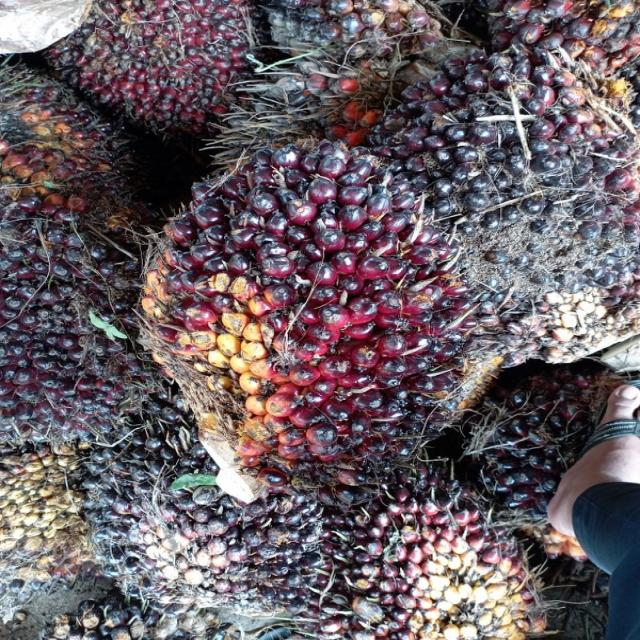fraksi 00: (381, 14, 640, 306), (79, 422, 340, 613), (324, 472, 536, 640)
fraksi 1: (154, 143, 454, 484), (61, 0, 265, 141)
